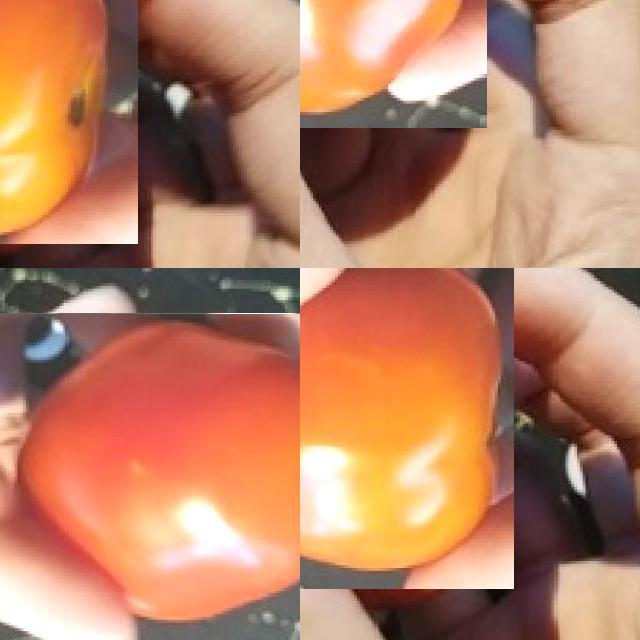Fresh Tomato: (0, 313, 300, 640), (300, 268, 514, 589), (0, 0, 137, 243), (300, 0, 486, 127)
